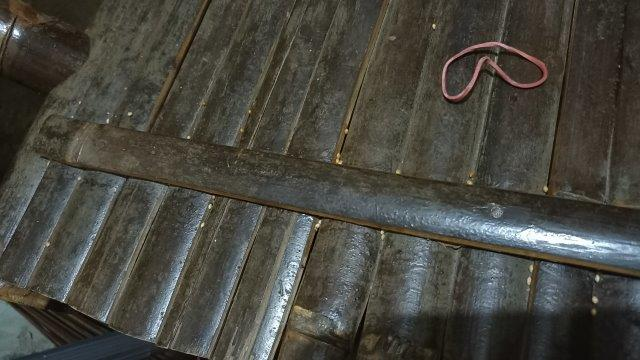karet: (441, 41, 548, 102)
